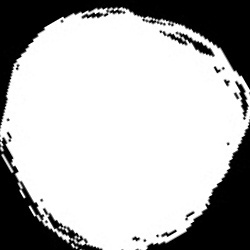spot: (2, 9, 246, 248)
